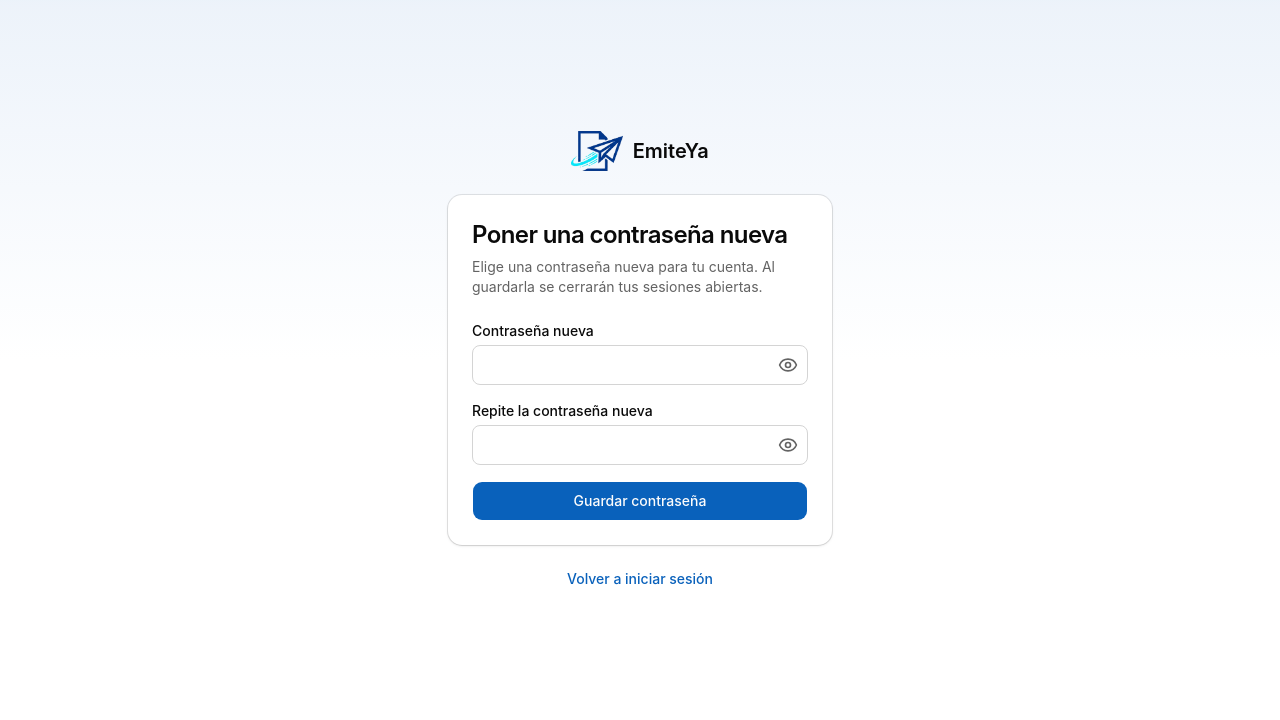
Test: poner una contraseña nueva › un enlace vencido o usado ofrece pedir otro
The image size is (1280, 720).
Check: the heading "Poner una contraseña nueva" is shown, box 472,219 -> 808,251
In the password field labelled "Contraseña nueva": point(640, 365) 472,345 -> 808,385, type "contrasena-nueva-1"
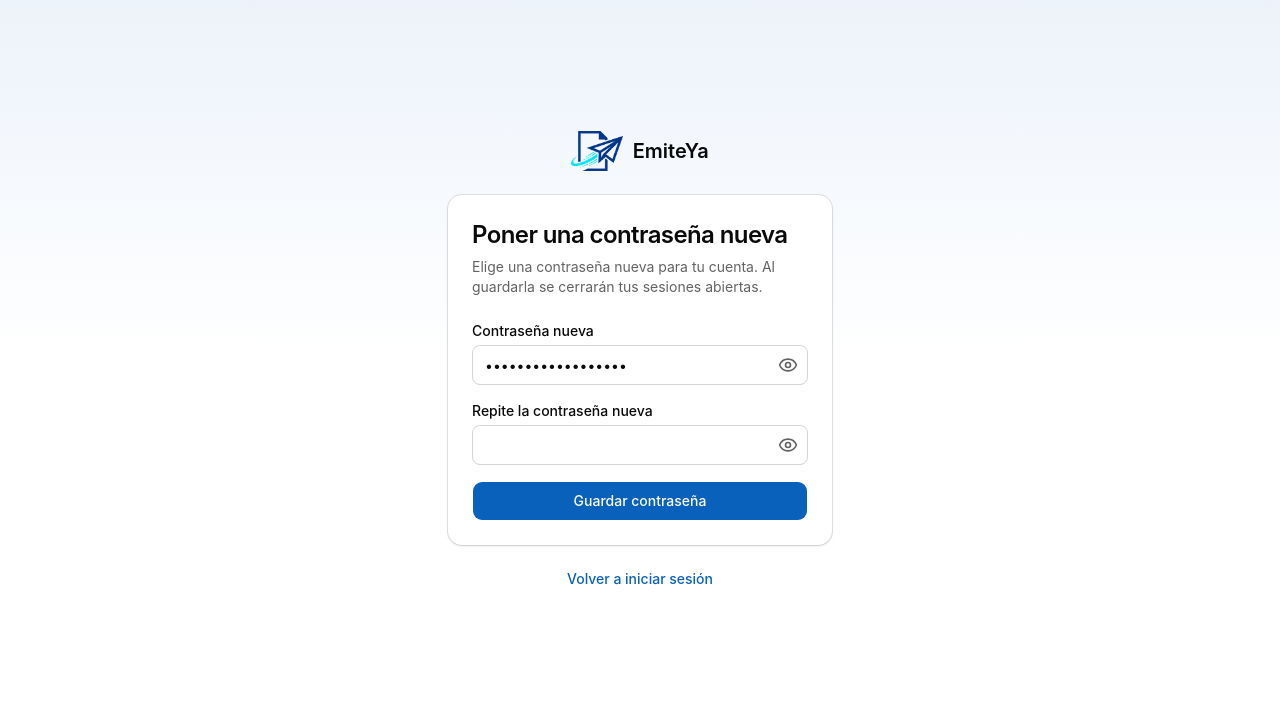
In the password field labelled "Repite la contraseña nueva": point(640, 445) 472,425 -> 808,465, type "contrasena-nueva-1"
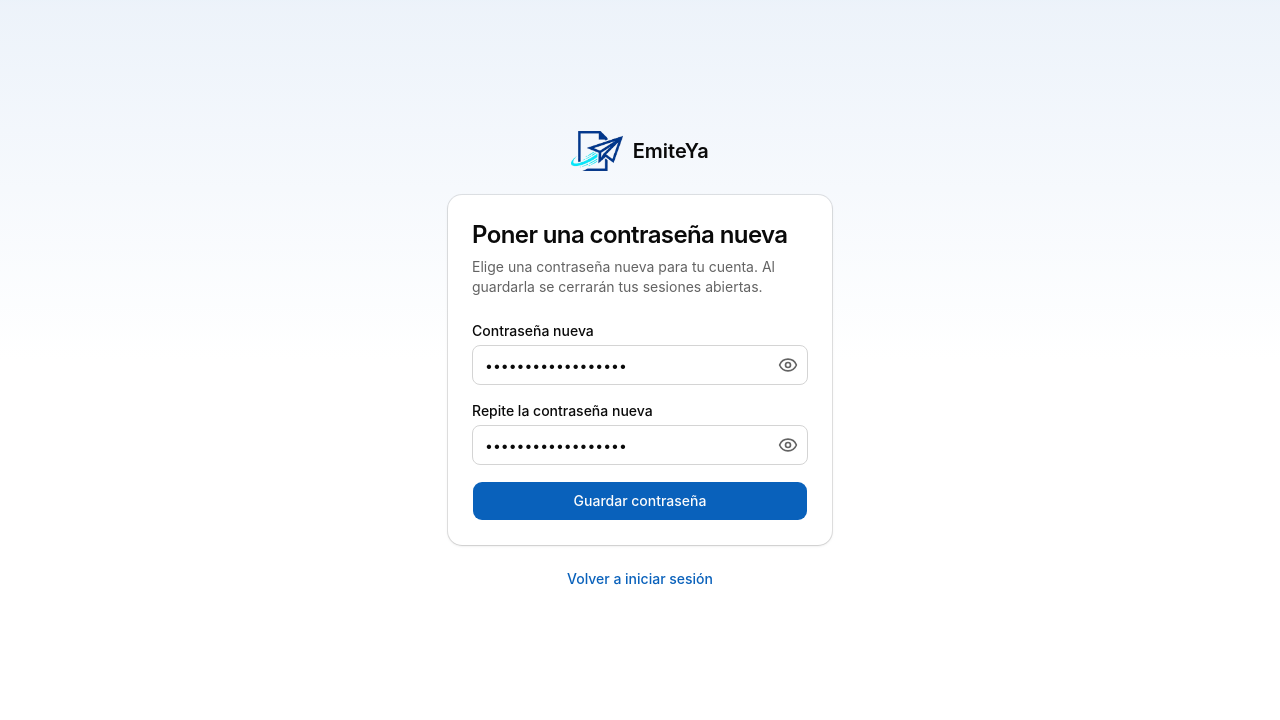
Click the button "Guardar contraseña": point(640, 501) 472,481 -> 808,521
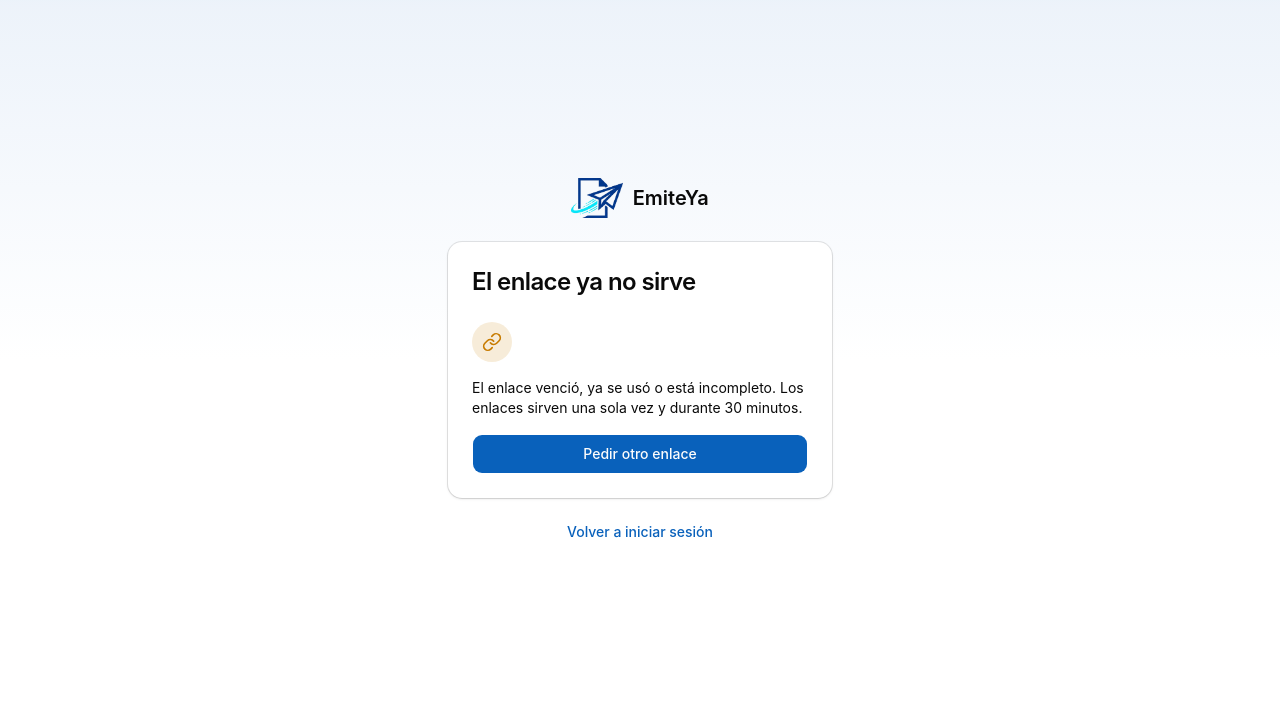
Check: the heading "El enlace ya no sirve" is shown, box 472,267 -> 696,296
